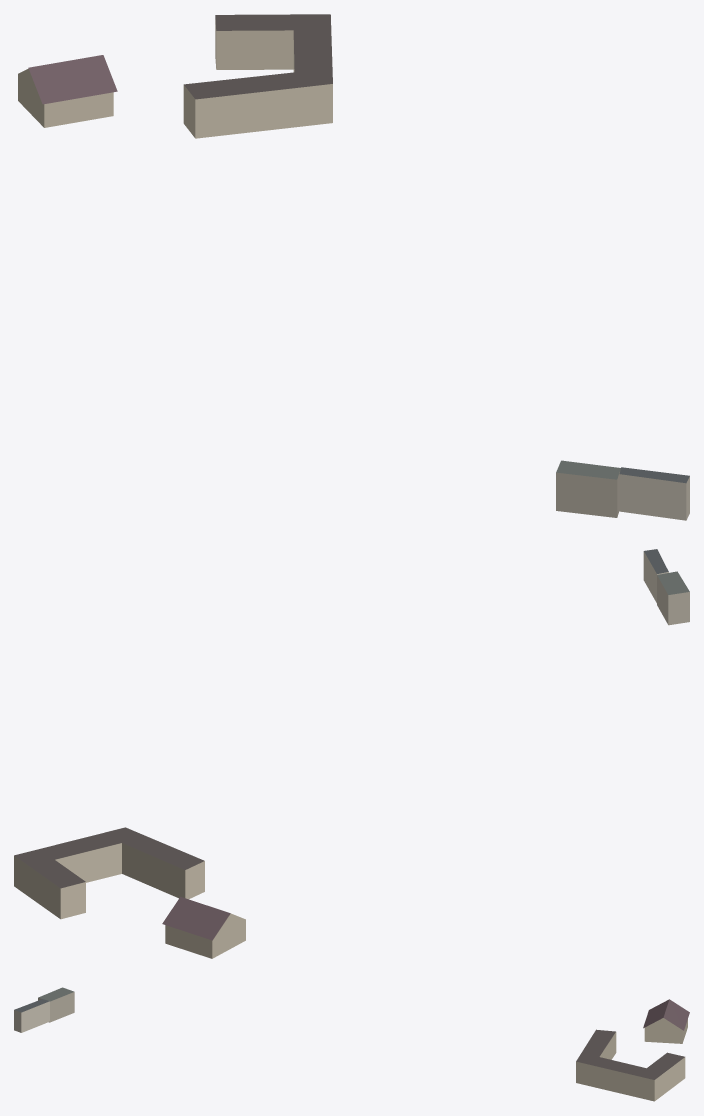
3 renders of one model, top to bottom at view 1: azimuth 30°, elevation 25°; view 2: azimuth 150°, elevation 25°; view 3: azimuth 270°, elevation 25°, orthographic. The views are drawn at different scales.
Visible parts, largest first — view 1: tuile; view 2: tuile; view 3: tuile.
Boxes of the visible parts, x1=… form: tuile: x1=18, y1=14, x2=689, y2=520; tuile: x1=14, y1=549, x2=689, y2=958; tuile: x1=14, y1=987, x2=689, y2=1101.
Bounding box in the file's own units: 42.7 × 7.25 × 145.
